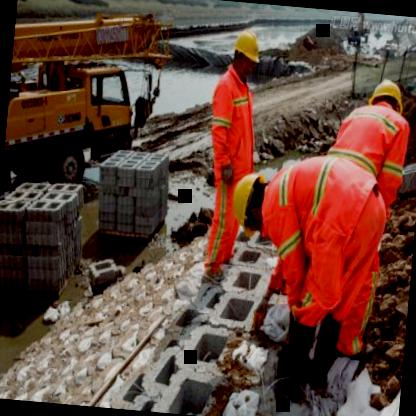helmet: (226, 170, 280, 243), (228, 24, 264, 81), (364, 76, 406, 123)
